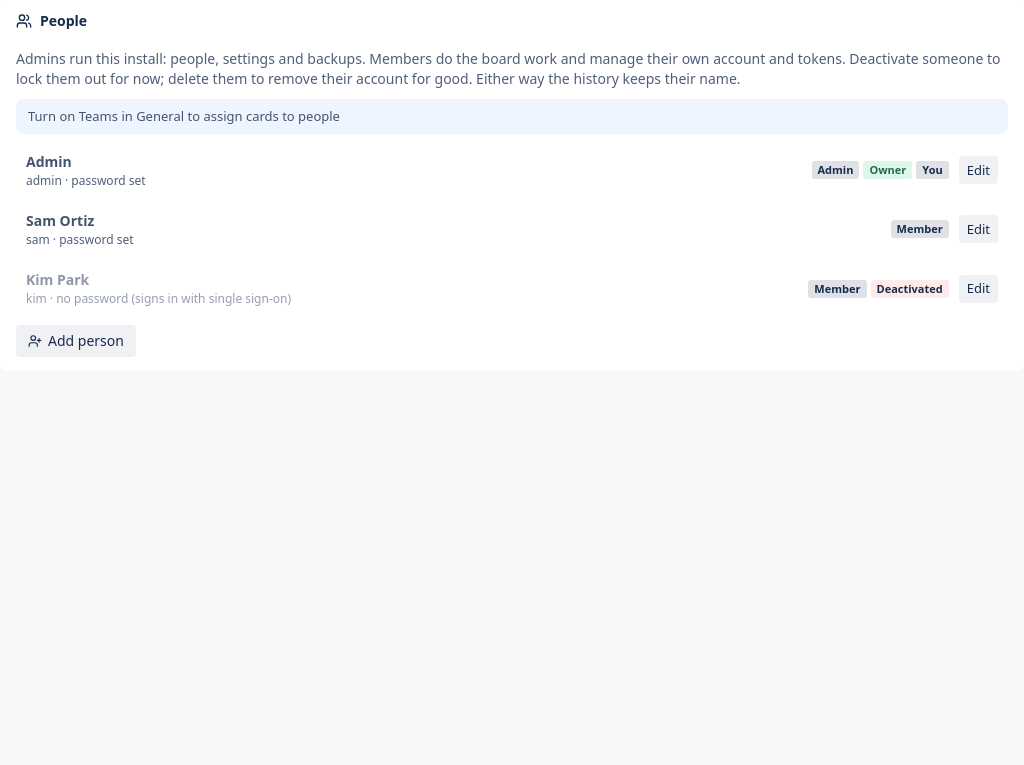
Scenario: PeopleSection › deletes someone once their username is typed, and says how many cards were unassigned
Click the button "Edit" next to "Deactivated" at point(978, 288), box [959,274,998,302]
(page scrolled)
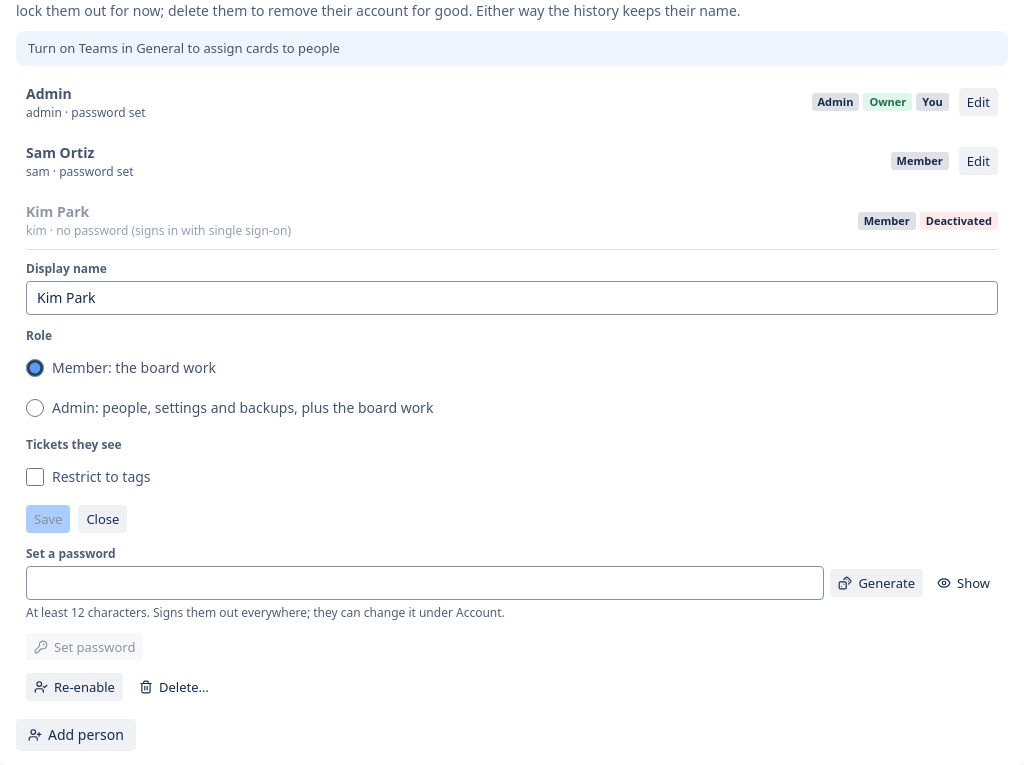
Click the button "Delete…" at point(174, 687), box [131,673,217,701]
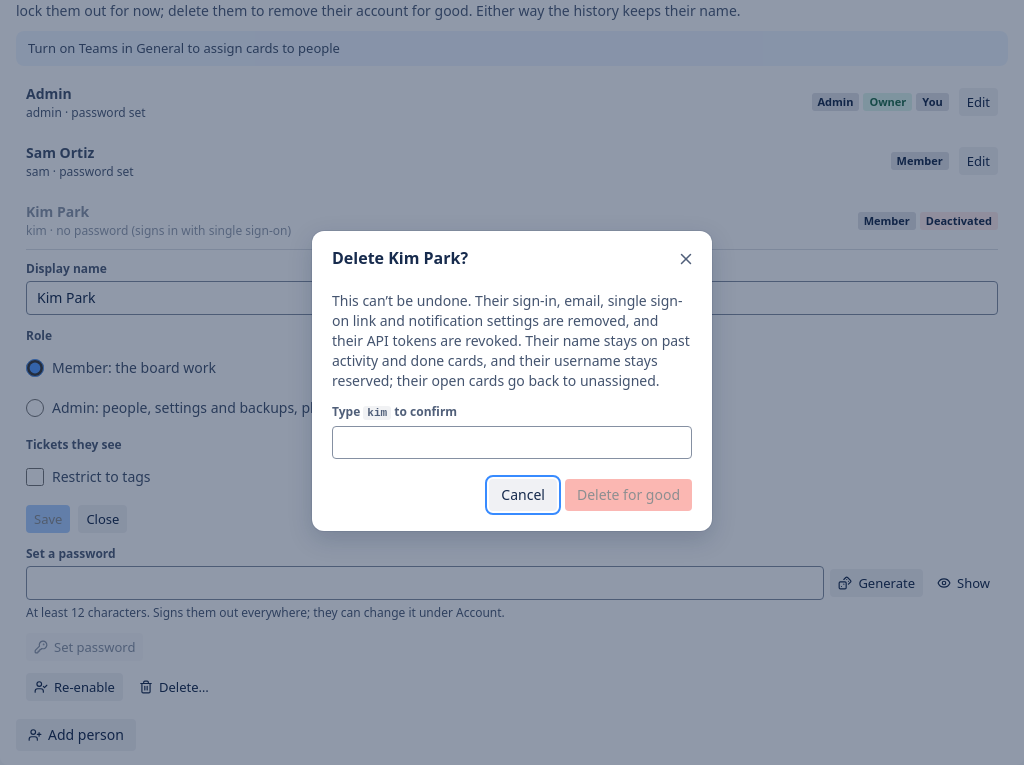
Check: the text "can’t be undone" is shown, box [332,291,690,390]
Check: the button "Delete for good" is disabled, box [565,479,692,511]
Type "Kim" into the field labelled "Type kim to confirm" at point(512, 442), box [332,426,692,459]
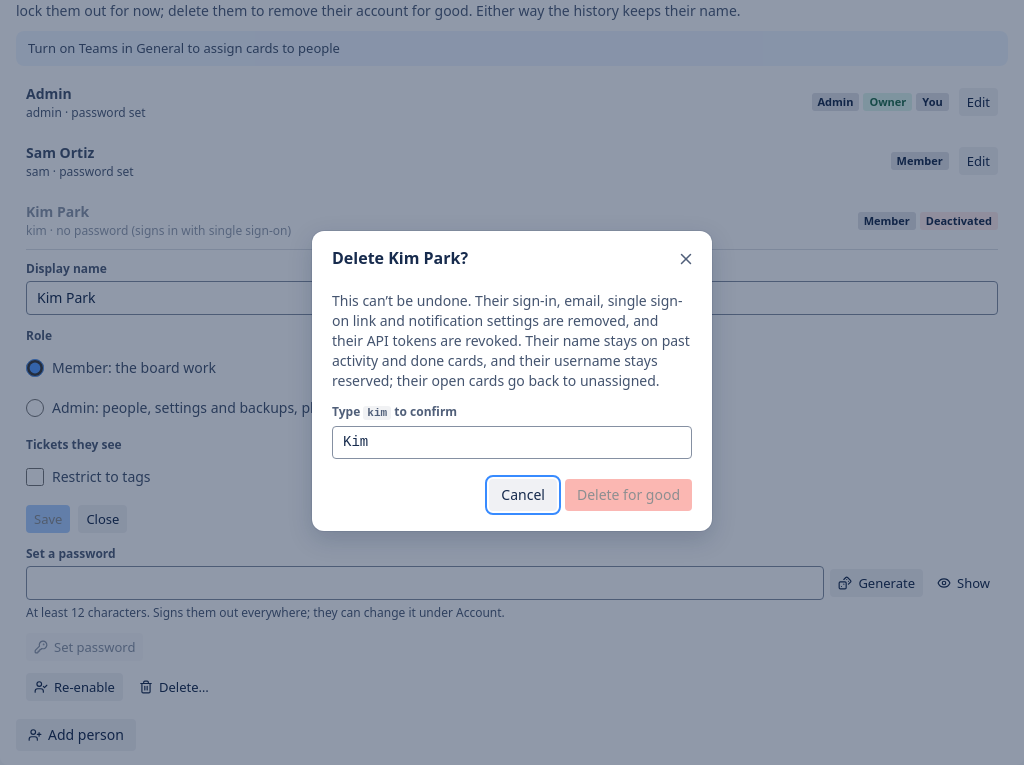
Check: the button "Delete for good" is disabled, box [565,479,692,511]
Replace the text in the field labelled "Type kim to confirm" with "kim" at point(512, 442), box [332,426,692,459]
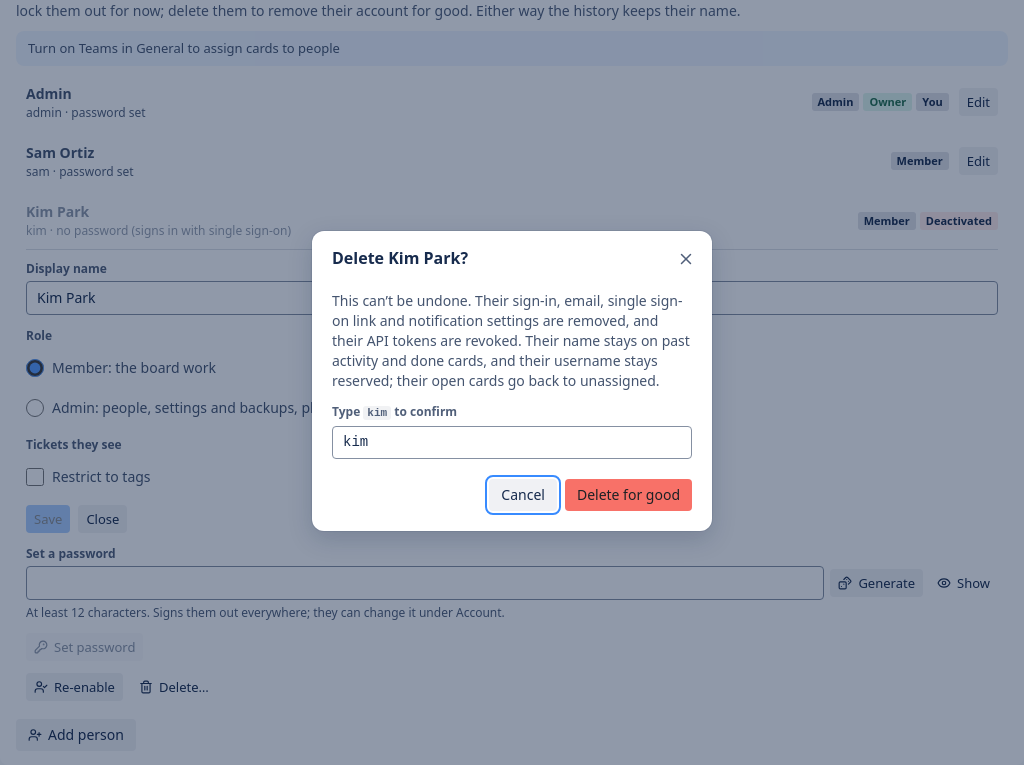
Check: the button "Delete for good" is enabled
Click the button "Delete for good" at point(628, 495), box [565,479,692,511]
(page scrolled)
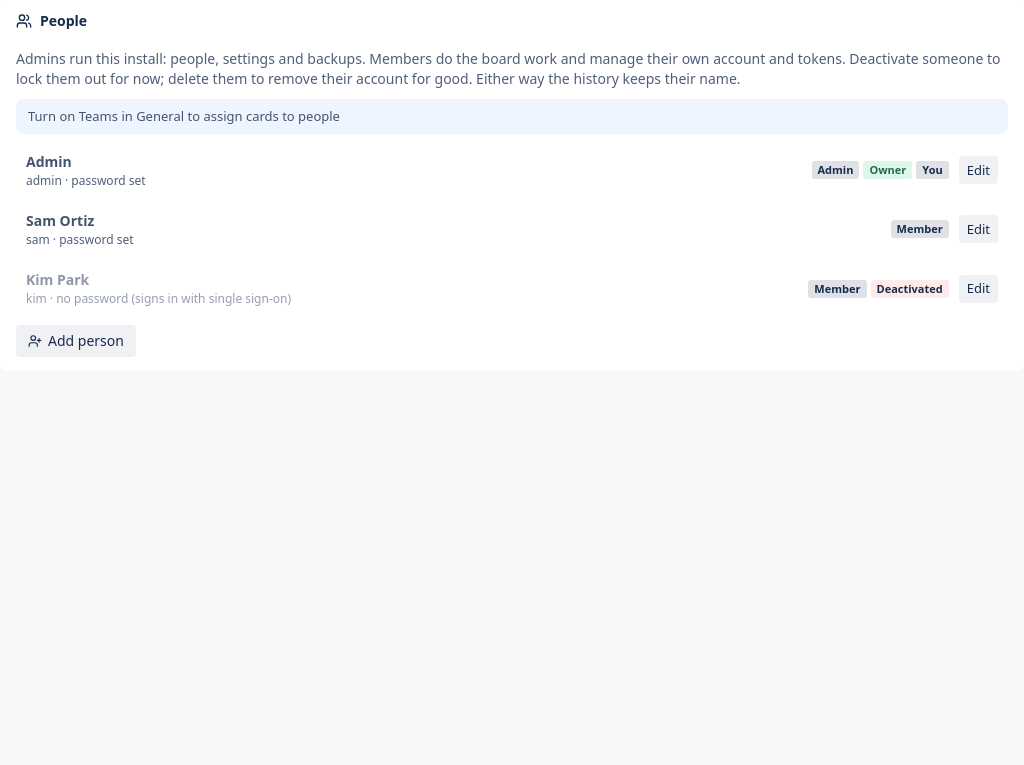
Check: the dialog is gone
Check: the button "Close" is gone
